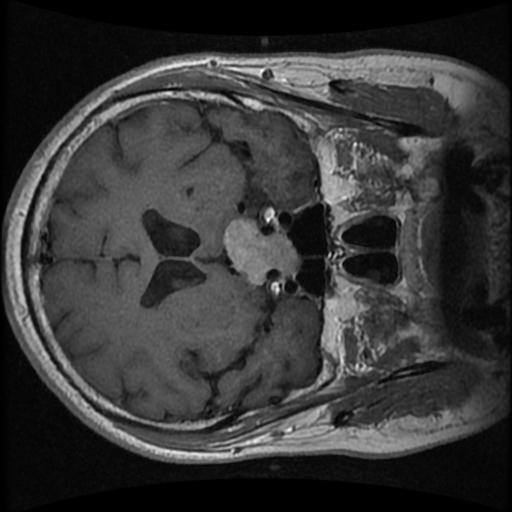pituitary tumour: (223, 217, 299, 284)
